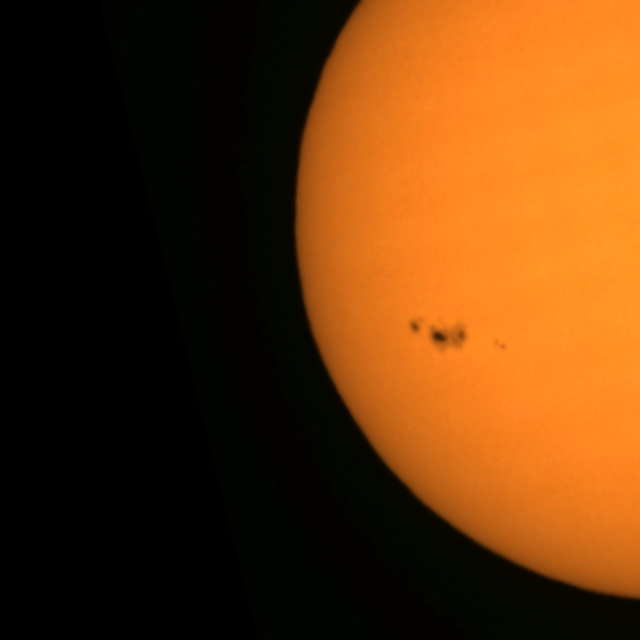sunspot: (405, 315, 476, 358), (489, 335, 510, 355)
